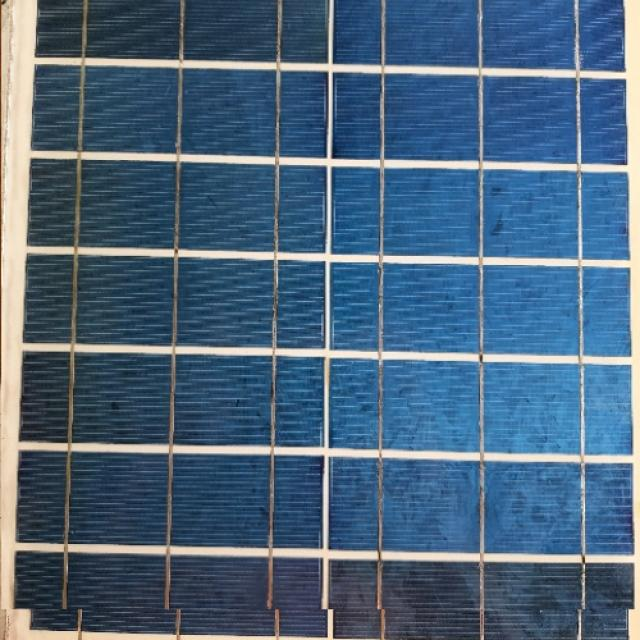Clean: (1, 0, 639, 610)
